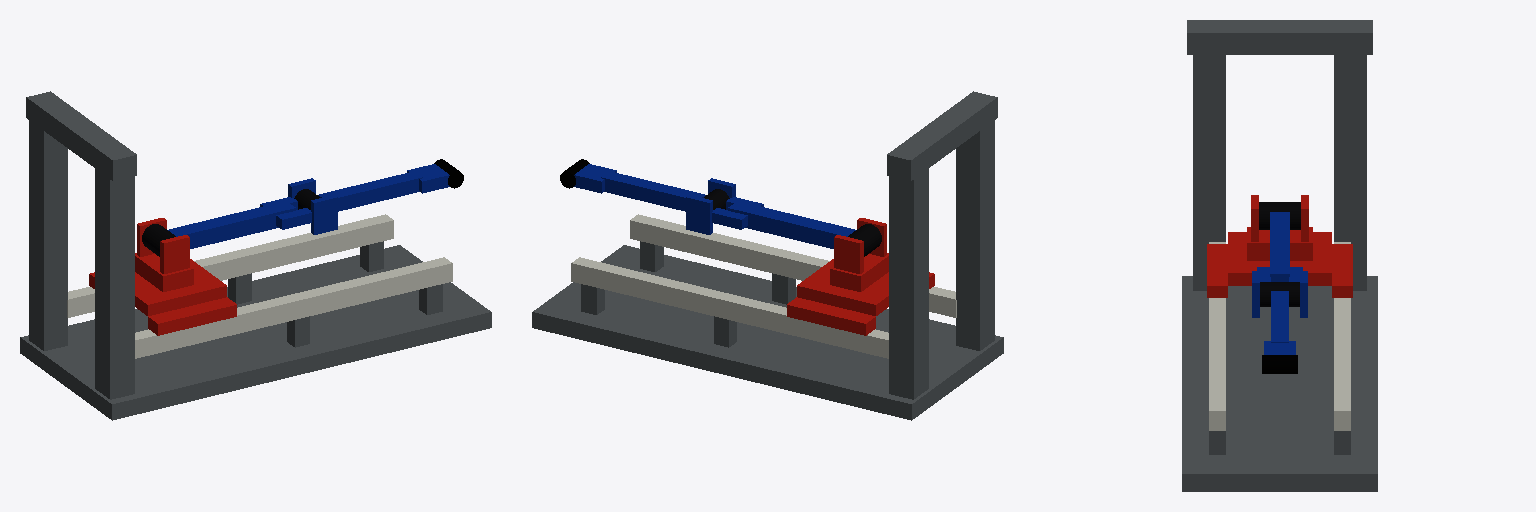
robot.urdf — fork_backed_slide_arm:
<robot name="fork_backed_slide_arm">
  <material name="painted_steel">
    <color rgba="0.34 0.36 0.37 1" />
    </material>
  <material name="brushed_rail_steel">
    <color rgba="0.76 0.76 0.72 1" />
    </material>
  <material name="carriage_red">
    <color rgba="0.7 0.12 0.08 1" />
    </material>
  <material name="arm_blue">
    <color rgba="0.05 0.2 0.55 1" />
    </material>
  <material name="dark_pins">
    <color rgba="0.06 0.06 0.065 1" />
    </material>
  <material name="rubber_black">
    <color rgba="0.015 0.014 0.012 1" />
    </material>
  <link name="frame">
    <visual name="base_plate">
      <origin xyz="0.43 0 0.0175" rpy="0 0 0" />
      <geometry>
        <box size="0.86 0.36 0.035" />
        </geometry>
      <material name="painted_steel">
        <color rgba="0.34 0.36 0.37 1" />
        </material>
      </visual>
    <visual name="rear_post_0">
      <origin xyz="0.035 -0.13 0.285" rpy="0 0 0" />
      <geometry>
        <box size="0.055 0.06 0.5" />
        </geometry>
      <material name="painted_steel">
        <color rgba="0.34 0.36 0.37 1" />
        </material>
      </visual>
    <visual name="rear_post_1">
      <origin xyz="0.035 0.13 0.285" rpy="0 0 0" />
      <geometry>
        <box size="0.055 0.06 0.5" />
        </geometry>
      <material name="painted_steel">
        <color rgba="0.34 0.36 0.37 1" />
        </material>
      </visual>
    <visual name="rear_crossbar">
      <origin xyz="0.035 0 0.535" rpy="0 0 0" />
      <geometry>
        <box size="0.055 0.34 0.045" />
        </geometry>
      <material name="painted_steel">
        <color rgba="0.34 0.36 0.37 1" />
        </material>
      </visual>
    <visual name="rail_0">
      <origin xyz="0.43 -0.115 0.115" rpy="0 0 0" />
      <geometry>
        <box size="0.74 0.032 0.04" />
        </geometry>
      <material name="brushed_rail_steel">
        <color rgba="0.76 0.76 0.72 1" />
        </material>
      </visual>
    <visual name="rail_1">
      <origin xyz="0.43 0.115 0.115" rpy="0 0 0" />
      <geometry>
        <box size="0.74 0.032 0.04" />
        </geometry>
      <material name="brushed_rail_steel">
        <color rgba="0.76 0.76 0.72 1" />
        </material>
      </visual>
    <visual name="rail_stand_0_46">
      <origin xyz="0.46 -0.115 0.065" rpy="0 0 0" />
      <geometry>
        <box size="0.035 0.032 0.06" />
        </geometry>
      <material name="painted_steel">
        <color rgba="0.34 0.36 0.37 1" />
        </material>
      </visual>
    <visual name="rail_stand_0_76">
      <origin xyz="0.76 -0.115 0.065" rpy="0 0 0" />
      <geometry>
        <box size="0.035 0.032 0.06" />
        </geometry>
      <material name="painted_steel">
        <color rgba="0.34 0.36 0.37 1" />
        </material>
      </visual>
    <visual name="rail_stand_1_46">
      <origin xyz="0.46 0.115 0.065" rpy="0 0 0" />
      <geometry>
        <box size="0.035 0.032 0.06" />
        </geometry>
      <material name="painted_steel">
        <color rgba="0.34 0.36 0.37 1" />
        </material>
      </visual>
    <visual name="rail_stand_1_76">
      <origin xyz="0.76 0.115 0.065" rpy="0 0 0" />
      <geometry>
        <box size="0.035 0.032 0.06" />
        </geometry>
      <material name="painted_steel">
        <color rgba="0.34 0.36 0.37 1" />
        </material>
      </visual>
    <collision name="base_plate">
      <origin xyz="0.43 0 0.0175" rpy="0 0 0" />
      <geometry>
        <box size="0.86 0.36 0.035" />
        </geometry>
      </collision>
    <collision name="rear_post_0">
      <origin xyz="0.035 -0.13 0.285" rpy="0 0 0" />
      <geometry>
        <box size="0.055 0.06 0.5" />
        </geometry>
      </collision>
    <collision name="rear_post_1">
      <origin xyz="0.035 0.13 0.285" rpy="0 0 0" />
      <geometry>
        <box size="0.055 0.06 0.5" />
        </geometry>
      </collision>
    <collision name="rear_crossbar">
      <origin xyz="0.035 0 0.535" rpy="0 0 0" />
      <geometry>
        <box size="0.055 0.34 0.045" />
        </geometry>
      </collision>
    <collision name="rail_0">
      <origin xyz="0.43 -0.115 0.115" rpy="0 0 0" />
      <geometry>
        <box size="0.74 0.032 0.04" />
        </geometry>
      </collision>
    <collision name="rail_1">
      <origin xyz="0.43 0.115 0.115" rpy="0 0 0" />
      <geometry>
        <box size="0.74 0.032 0.04" />
        </geometry>
      </collision>
    <collision name="rail_stand_0_46">
      <origin xyz="0.46 -0.115 0.065" rpy="0 0 0" />
      <geometry>
        <box size="0.035 0.032 0.06" />
        </geometry>
      </collision>
    <collision name="rail_stand_0_76">
      <origin xyz="0.76 -0.115 0.065" rpy="0 0 0" />
      <geometry>
        <box size="0.035 0.032 0.06" />
        </geometry>
      </collision>
    <collision name="rail_stand_1_46">
      <origin xyz="0.46 0.115 0.065" rpy="0 0 0" />
      <geometry>
        <box size="0.035 0.032 0.06" />
        </geometry>
      </collision>
    <collision name="rail_stand_1_76">
      <origin xyz="0.76 0.115 0.065" rpy="0 0 0" />
      <geometry>
        <box size="0.035 0.032 0.06" />
        </geometry>
      </collision>
    </link>
  <link name="carriage">
    <visual name="shoe_0">
      <origin xyz="0 -0.115 0.148" rpy="0 0 0" />
      <geometry>
        <box size="0.18 0.04 0.026" />
        </geometry>
      <material name="carriage_red">
        <color rgba="0.7 0.12 0.08 1" />
        </material>
      </visual>
    <visual name="shoe_1">
      <origin xyz="0 0.115 0.148" rpy="0 0 0" />
      <geometry>
        <box size="0.18 0.04 0.026" />
        </geometry>
      <material name="carriage_red">
        <color rgba="0.7 0.12 0.08 1" />
        </material>
      </visual>
    <visual name="slide_deck">
      <origin xyz="0 0 0.1735" rpy="0 0 0" />
      <geometry>
        <box size="0.18 0.19 0.025" />
        </geometry>
      <material name="carriage_red">
        <color rgba="0.7 0.12 0.08 1" />
        </material>
      </visual>
    <visual name="shoulder_base">
      <origin xyz="0 0 0.2035" rpy="0 0 0" />
      <geometry>
        <box size="0.07 0.12 0.035" />
        </geometry>
      <material name="carriage_red">
        <color rgba="0.7 0.12 0.08 1" />
        </material>
      </visual>
    <visual name="shoulder_cheek_0">
      <origin xyz="0 -0.046 0.248" rpy="0 0 0" />
      <geometry>
        <box size="0.06 0.014 0.08" />
        </geometry>
      <material name="carriage_red">
        <color rgba="0.7 0.12 0.08 1" />
        </material>
      </visual>
    <visual name="shoulder_cheek_1">
      <origin xyz="0 0.046 0.248" rpy="0 0 0" />
      <geometry>
        <box size="0.06 0.014 0.08" />
        </geometry>
      <material name="carriage_red">
        <color rgba="0.7 0.12 0.08 1" />
        </material>
      </visual>
    <collision name="shoe_0">
      <origin xyz="0 -0.115 0.148" rpy="0 0 0" />
      <geometry>
        <box size="0.18 0.04 0.026" />
        </geometry>
      </collision>
    <collision name="shoe_1">
      <origin xyz="0 0.115 0.148" rpy="0 0 0" />
      <geometry>
        <box size="0.18 0.04 0.026" />
        </geometry>
      </collision>
    <collision name="slide_deck">
      <origin xyz="0 0 0.1735" rpy="0 0 0" />
      <geometry>
        <box size="0.18 0.19 0.025" />
        </geometry>
      </collision>
    <collision name="shoulder_base">
      <origin xyz="0 0 0.2035" rpy="0 0 0" />
      <geometry>
        <box size="0.07 0.12 0.035" />
        </geometry>
      </collision>
    <collision name="shoulder_cheek_0">
      <origin xyz="0 -0.046 0.248" rpy="0 0 0" />
      <geometry>
        <box size="0.06 0.014 0.08" />
        </geometry>
      </collision>
    <collision name="shoulder_cheek_1">
      <origin xyz="0 0.046 0.248" rpy="0 0 0" />
      <geometry>
        <box size="0.06 0.014 0.08" />
        </geometry>
      </collision>
    </link>
  <link name="upper_arm">
    <visual name="shoulder_pin">
      <origin xyz="0 0 0" rpy="-1.5708 0 0" />
      <geometry>
        <cylinder radius="0.026" length="0.078" />
        </geometry>
      <material name="dark_pins">
        <color rgba="0.06 0.06 0.065 1" />
        </material>
      </visual>
    <visual name="upper_bar">
      <origin xyz="0.155 0 0" rpy="0 0 0" />
      <geometry>
        <box size="0.27 0.038 0.034" />
        </geometry>
      <material name="arm_blue">
        <color rgba="0.05 0.2 0.55 1" />
        </material>
      </visual>
    <visual name="elbow_web_0">
      <origin xyz="0.28 -0.03 0" rpy="0 0 0" />
      <geometry>
        <box size="0.07 0.026 0.022" />
        </geometry>
      <material name="arm_blue">
        <color rgba="0.05 0.2 0.55 1" />
        </material>
      </visual>
    <visual name="elbow_web_1">
      <origin xyz="0.28 0.03 0" rpy="0 0 0" />
      <geometry>
        <box size="0.07 0.026 0.022" />
        </geometry>
      <material name="arm_blue">
        <color rgba="0.05 0.2 0.55 1" />
        </material>
      </visual>
    <visual name="elbow_cheek_0">
      <origin xyz="0.34 -0.044 0" rpy="0 0 0" />
      <geometry>
        <box size="0.055 0.014 0.07" />
        </geometry>
      <material name="arm_blue">
        <color rgba="0.05 0.2 0.55 1" />
        </material>
      </visual>
    <visual name="elbow_cheek_1">
      <origin xyz="0.34 0.044 0" rpy="0 0 0" />
      <geometry>
        <box size="0.055 0.014 0.07" />
        </geometry>
      <material name="arm_blue">
        <color rgba="0.05 0.2 0.55 1" />
        </material>
      </visual>
    <collision name="shoulder_pin">
      <origin xyz="0 0 0" rpy="-1.5708 0 0" />
      <geometry>
        <cylinder radius="0.026" length="0.078" />
        </geometry>
      </collision>
    <collision name="upper_bar">
      <origin xyz="0.155 0 0" rpy="0 0 0" />
      <geometry>
        <box size="0.27 0.038 0.034" />
        </geometry>
      </collision>
    <collision name="elbow_web_0">
      <origin xyz="0.28 -0.03 0" rpy="0 0 0" />
      <geometry>
        <box size="0.07 0.026 0.022" />
        </geometry>
      </collision>
    <collision name="elbow_web_1">
      <origin xyz="0.28 0.03 0" rpy="0 0 0" />
      <geometry>
        <box size="0.07 0.026 0.022" />
        </geometry>
      </collision>
    <collision name="elbow_cheek_0">
      <origin xyz="0.34 -0.044 0" rpy="0 0 0" />
      <geometry>
        <box size="0.055 0.014 0.07" />
        </geometry>
      </collision>
    <collision name="elbow_cheek_1">
      <origin xyz="0.34 0.044 0" rpy="0 0 0" />
      <geometry>
        <box size="0.055 0.014 0.07" />
        </geometry>
      </collision>
    </link>
  <link name="tip">
    <visual name="elbow_pin">
      <origin xyz="0 0 0" rpy="-1.5708 0 0" />
      <geometry>
        <cylinder radius="0.023" length="0.074" />
        </geometry>
      <material name="dark_pins">
        <color rgba="0.06 0.06 0.065 1" />
        </material>
      </visual>
    <visual name="tip_bar">
      <origin xyz="0.13 0 0" rpy="0 0 0" />
      <geometry>
        <box size="0.22 0.033 0.03" />
        </geometry>
      <material name="arm_blue">
        <color rgba="0.05 0.2 0.55 1" />
        </material>
      </visual>
    <visual name="tip_pad">
      <origin xyz="0.265 0 0" rpy="0 0 0" />
      <geometry>
        <box size="0.07 0.06 0.026" />
        </geometry>
      <material name="arm_blue">
        <color rgba="0.05 0.2 0.55 1" />
        </material>
      </visual>
    <visual name="rubber_tip">
      <origin xyz="0.305 0 0" rpy="-1.5708 0 0" />
      <geometry>
        <cylinder radius="0.018" length="0.065" />
        </geometry>
      <material name="rubber_black">
        <color rgba="0.015 0.014 0.012 1" />
        </material>
      </visual>
    <collision name="elbow_pin">
      <origin xyz="0 0 0" rpy="-1.5708 0 0" />
      <geometry>
        <cylinder radius="0.023" length="0.074" />
        </geometry>
      </collision>
    <collision name="tip_bar">
      <origin xyz="0.13 0 0" rpy="0 0 0" />
      <geometry>
        <box size="0.22 0.033 0.03" />
        </geometry>
      </collision>
    <collision name="tip_pad">
      <origin xyz="0.265 0 0" rpy="0 0 0" />
      <geometry>
        <box size="0.07 0.06 0.026" />
        </geometry>
      </collision>
    <collision name="rubber_tip">
      <origin xyz="0.305 0 0" rpy="-1.5708 0 0" />
      <geometry>
        <cylinder radius="0.018" length="0.065" />
        </geometry>
      </collision>
    </link>
  <joint name="frame_to_carriage" type="prismatic">
    <origin xyz="0.22 0 0" rpy="0 0 0" />
    <parent link="frame" />
    <child link="carriage" />
    <axis xyz="1 0 0" />
    <limit effort="90" velocity="0.35" lower="0" upper="0.38" />
    </joint>
  <joint name="carriage_to_upper_arm" type="revolute">
    <origin xyz="0 0 0.26" rpy="0 0 0" />
    <parent link="carriage" />
    <child link="upper_arm" />
    <axis xyz="0 -1 0" />
    <limit effort="18" velocity="1.5" lower="-0.45" upper="1.1" />
    </joint>
  <joint name="upper_arm_to_tip" type="revolute">
    <origin xyz="0.34 0 0" rpy="0 0 0" />
    <parent link="upper_arm" />
    <child link="tip" />
    <axis xyz="0 -1 0" />
    <limit effort="10" velocity="1.8" lower="-1.1" upper="1.1" />
    </joint>
  </robot>

--- What the picture shows (computed from the rendered views, not written in the file) ---
Views: 3 orthographic renders of the robot side by side, from view 1: azimuth 30°, elevation 25°; view 2: azimuth 150°, elevation 25°; view 3: azimuth 270°, elevation 25°.
Robot: fork_backed_slide_arm — 4 links, 3 joints (2 revolute, 1 prismatic); root link frame; default pose: every joint at zero.
Visible links, largest first — view 1: frame, carriage, upper_arm, tip; view 2: frame, carriage, upper_arm, tip; view 3: frame, carriage, upper_arm, tip.
Boxes of the visible links, x1,y1,x2,y2 form: frame: [20, 91, 491, 420]; carriage: [89, 218, 236, 335]; upper_arm: [142, 178, 337, 256]; tip: [294, 159, 463, 211]; frame: [532, 91, 1003, 420]; carriage: [787, 218, 934, 335]; upper_arm: [686, 178, 881, 256]; tip: [560, 159, 729, 211]; frame: [1182, 20, 1377, 491]; carriage: [1207, 195, 1352, 297]; upper_arm: [1252, 202, 1307, 317]; tip: [1260, 282, 1299, 373].
Size in the robot's own frame: 0.883 by 0.36 by 0.5575 metres.
Geometry: primitives only (box / cylinder / sphere), no mesh files.
